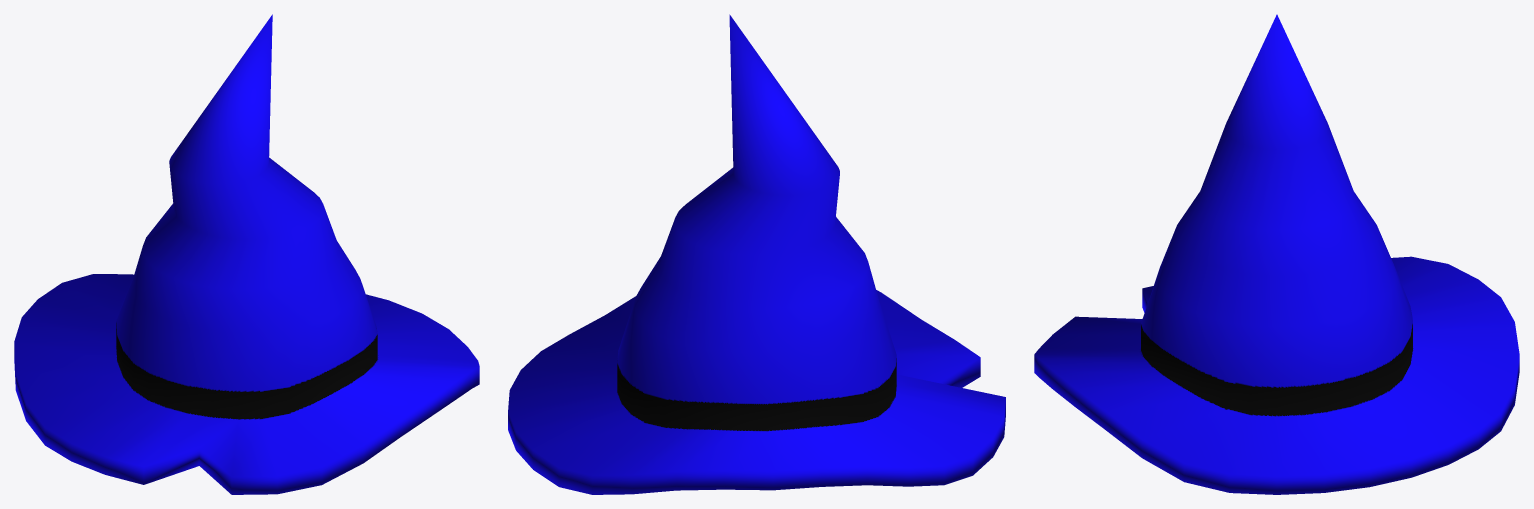
File: WizardHat_Blue.fbx
3 views of the same model, side by side, from view 1: azimuth 30°, elevation 25°; view 2: azimuth 150°, elevation 25°; view 3: azimuth 270°, elevation 25° (orthographic). The views are drawn at different scales.
Visible parts, largest first — view 1: Cone; view 2: Cone; view 3: Cone.
Part boxes in pixels (<box>): Cone: <box>14,14,479,494</box>; Cone: <box>508,14,1005,494</box>; Cone: <box>1034,14,1519,494</box>.
Bounding box in the file's own units: 933 × 831 × 933.
